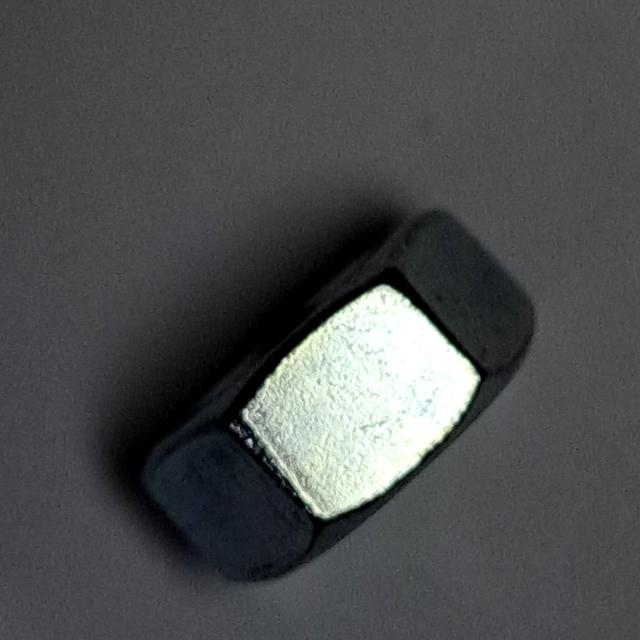Side_Excellent: (134, 199, 558, 600)
